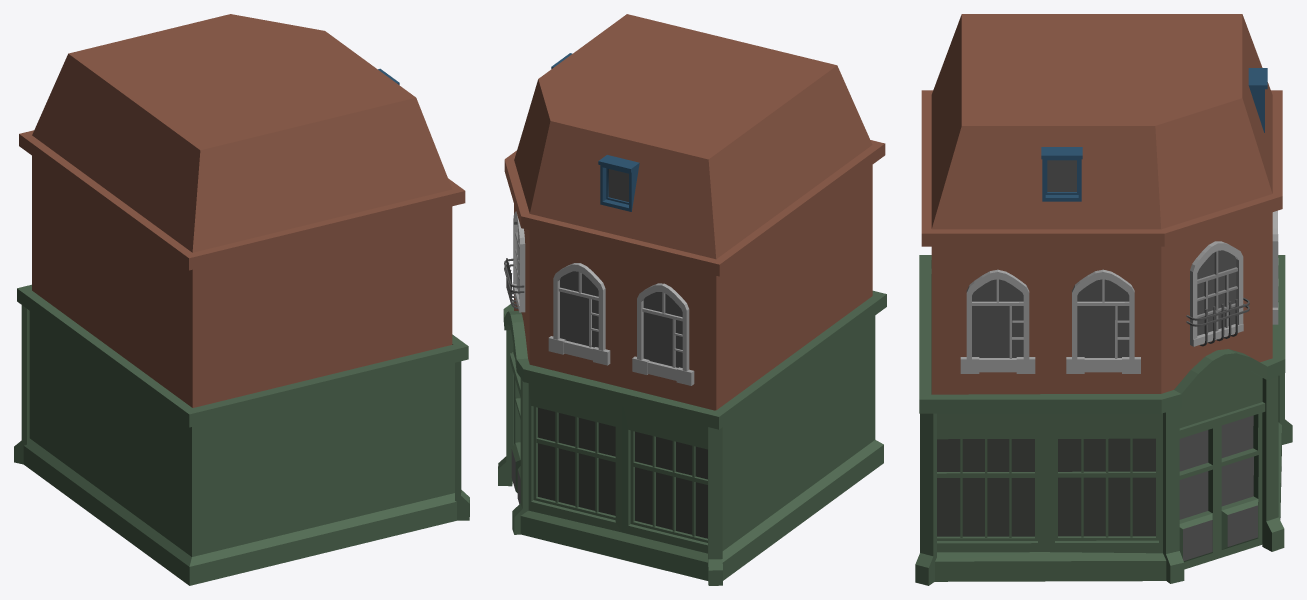
File: CafeBuilding.fbx
The picture shows the model from 3 angles, left to right: view 1: azimuth 30°, elevation 25°; view 2: azimuth 150°, elevation 25°; view 3: azimuth 270°, elevation 25°; orthographic projection. The views are drawn at different scales.
Visible parts, largest first — view 1: Upper_lp, Lower_lp, Curve_lp, Pillars_lp; view 2: Upper_lp, Lower_lp, Secfloorwindows_lp, Curve_lp, Pillars_lp, LowerBars_lp, AtticWin_lp, Door_lp; view 3: Upper_lp, Lower_lp, Secfloorwindows_lp, Door_lp, Curve_lp, Pillars_lp, Log_lp, LowerBars_lp, AtticWin_lp, Upperbarwin_lp.
Part boxes in pixels (box(x1,y1,x2,y2)): Upper_lp: box(19, 14, 465, 407); Lower_lp: box(23, 311, 456, 585); Curve_lp: box(17, 284, 468, 427); Pillars_lp: box(14, 305, 469, 520); Upper_lp: box(504, 14, 885, 410); Lower_lp: box(512, 315, 883, 580); Secfloorwindows_lp: box(512, 211, 694, 385); Curve_lp: box(503, 290, 886, 429); Pillars_lp: box(498, 330, 722, 585); LowerBars_lp: box(536, 412, 707, 536); AtticWin_lp: box(551, 53, 639, 211); Door_lp: box(510, 352, 520, 503); Upper_lp: box(921, 14, 1282, 394); Lower_lp: box(931, 274, 1281, 581); Secfloorwindows_lp: box(960, 210, 1278, 373); Door_lp: box(1179, 402, 1265, 569); Curve_lp: box(919, 255, 1285, 413); Pillars_lp: box(915, 373, 1292, 585); Log_lp: box(1179, 368, 1262, 428); LowerBars_lp: box(937, 438, 1155, 537); AtticWin_lp: box(1041, 68, 1267, 201); Upperbarwin_lp: box(1186, 297, 1249, 346).
Size of the model in its own units: 18.3 by 25.14 by 19.52.
